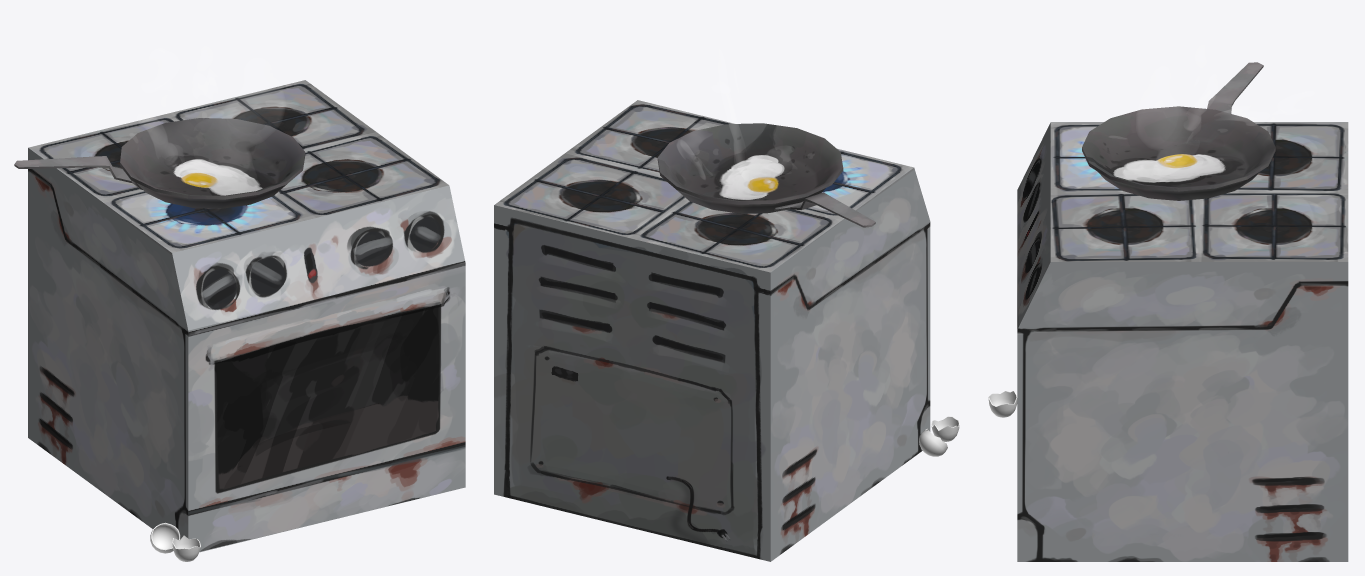
The model's file is frying_egg.glb.
3 views of the same model, side by side, from view 1: azimuth 30°, elevation 25°; view 2: azimuth 150°, elevation 25°; view 3: azimuth 270°, elevation 25° (orthographic). The views are drawn at different scales.
Parts seen in each view (by area): view 1: Cube_1, Circle_0, Plane.003_3, Sphere_8, Sphere.001_9; view 2: Cube_1, Circle_0; view 3: Cube_1, Circle_0, Plane.003_3, Sphere.001_9.
Boxes of the visible parts, bbox=[...] form: Cube_1: bbox=[28, 80, 465, 552]; Circle_0: bbox=[14, 118, 305, 208]; Plane.003_3: bbox=[214, 94, 263, 175]; Sphere_8: bbox=[150, 522, 180, 553]; Sphere.001_9: bbox=[172, 535, 200, 561]; Cube_1: bbox=[494, 100, 930, 561]; Circle_0: bbox=[657, 123, 875, 227]; Cube_1: bbox=[1017, 122, 1348, 561]; Circle_0: bbox=[1082, 62, 1275, 200]; Plane.003_3: bbox=[1152, 100, 1181, 172]; Sphere.001_9: bbox=[988, 391, 1017, 417].
Size of what is drawn, in the model's own units: 0.3019 by 0.3864 by 0.2736.
4 materials, 3 textured.
